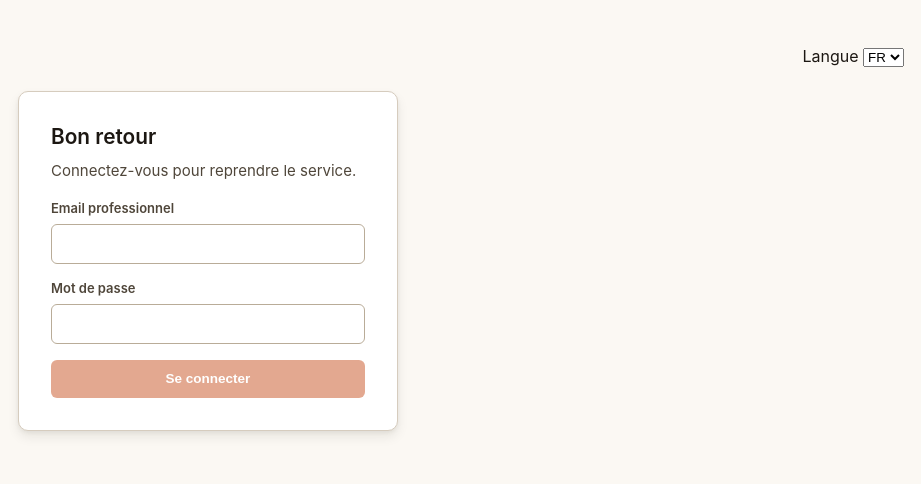
LoginScreen › affiche le message d’erreur du serveur sur des identifiants invalides
Step 1. Type "a@b.com" into the field with id "login-email" → (208, 244), box [51,224,365,264]
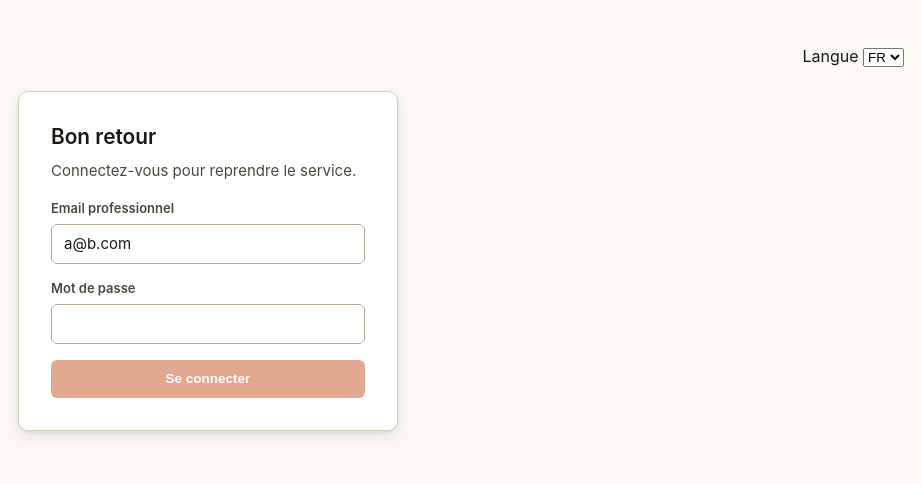
Step 2. Type "wrong" into the password field with id "login-password" → (208, 324), box [51,304,365,344]
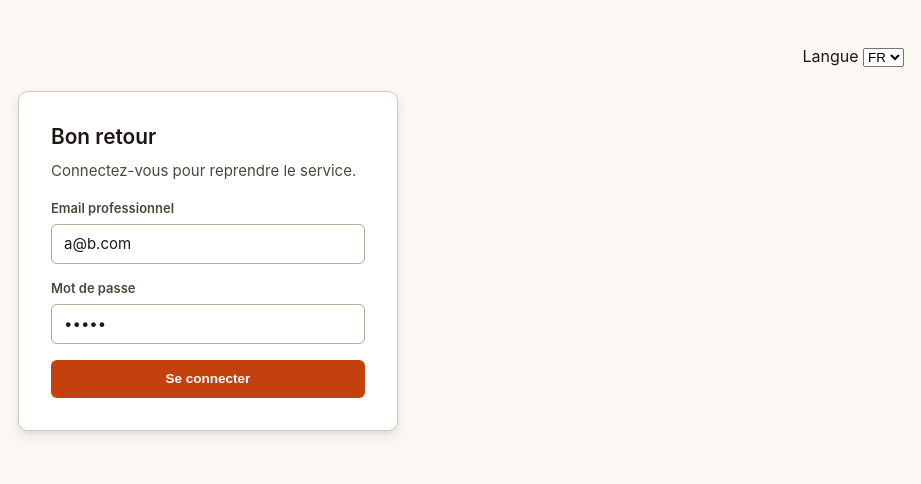
Step 3. Submit the form, box [51,200,365,398]
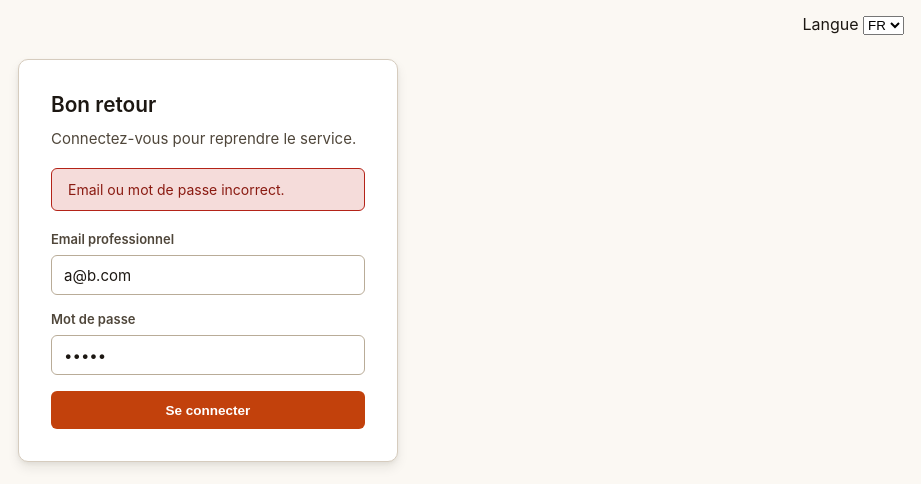
Now the text "Email ou mot de passe incorrect." is shown, box [51,168,365,211]
